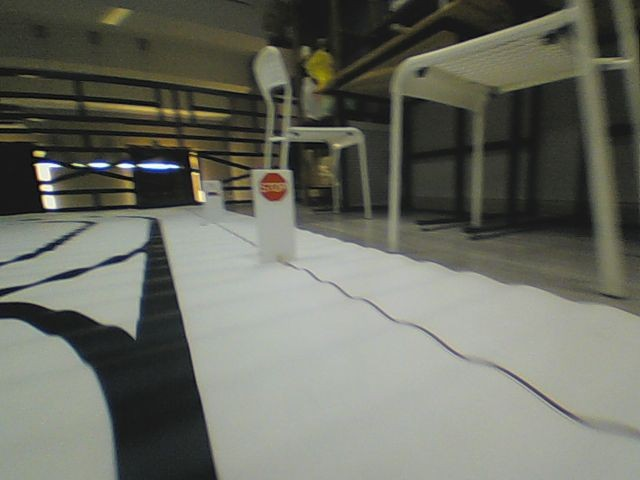Stop: (258, 171, 289, 202)
